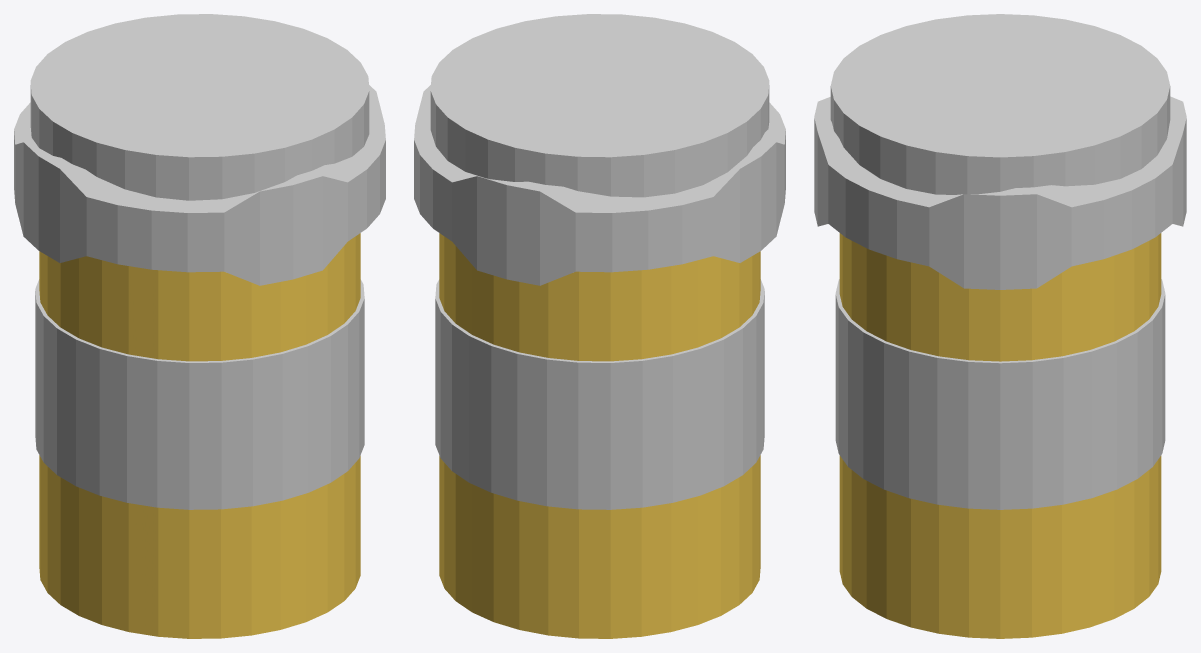
File: pills.gltf
3 renders of one model, left to right at view 1: azimuth 30°, elevation 25°; view 2: azimuth 150°, elevation 25°; view 3: azimuth 270°, elevation 25°, orthographic.
Visible parts, largest first — view 1: Cylinder, Cylinder.003, Cylinder.004, Cylinder.002; view 2: Cylinder, Cylinder.003, Cylinder.004, Cylinder.002; view 3: Cylinder, Cylinder.003, Cylinder.004, Cylinder.002.
Part boxes in pixels (<box>): Cylinder: <box>39,233,360,638</box>; Cylinder.003: <box>30,14,369,200</box>; Cylinder.004: <box>35,279,364,509</box>; Cylinder.002: <box>14,85,385,285</box>; Cylinder: <box>439,233,760,638</box>; Cylinder.003: <box>430,14,769,197</box>; Cylinder.004: <box>435,279,764,509</box>; Cylinder.002: <box>414,85,785,285</box>; Cylinder: <box>839,233,1161,638</box>; Cylinder.003: <box>830,14,1170,194</box>; Cylinder.004: <box>835,279,1165,509</box>; Cylinder.002: <box>814,96,1186,289</box>.
Size of the model in its own units: 2.31 by 3.33 by 2.31.
